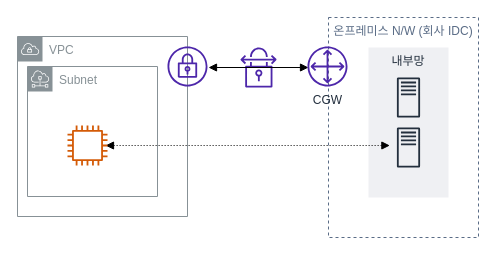
The diagram is 496 pixels wide and 255 high, and some of its shapes have lost their labels. Here are the shapes that lost their labels. From the top down, the box of each, then its label:
(167, 46, 207, 86): VGW (VPN GW)
(238, 47, 278, 87): VPN Connection
(67, 125, 107, 165): Instance
